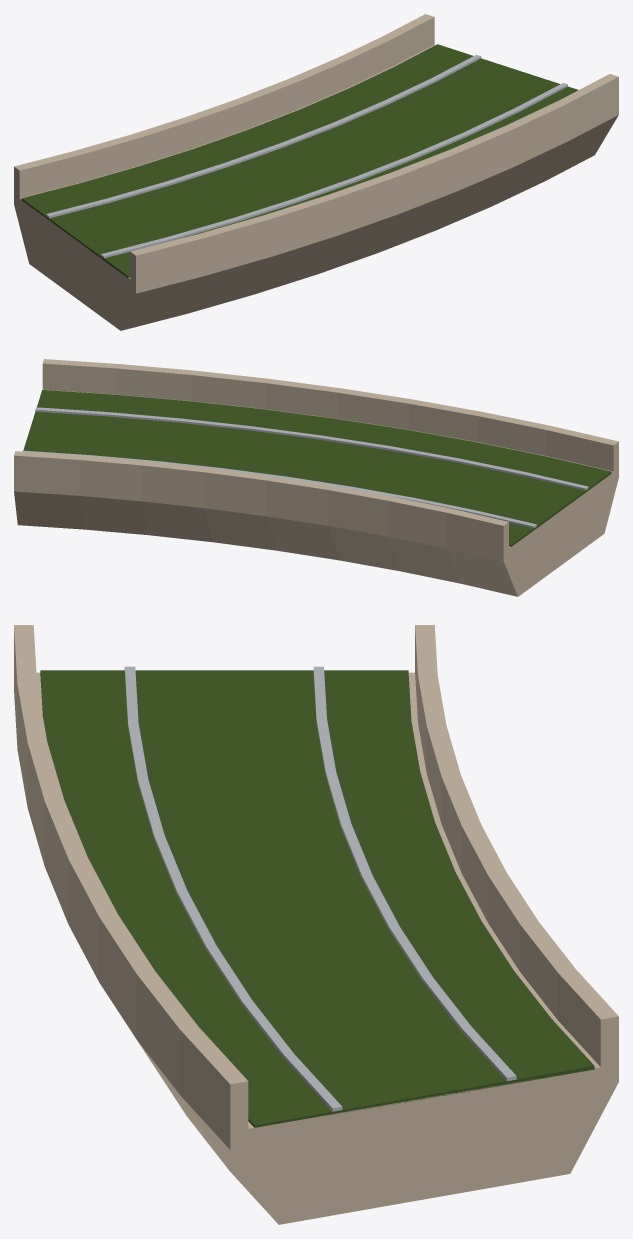
The model's file is city_rail_curve.glb.
3 views of the same model, one above another, from view 1: azimuth 30°, elevation 25°; view 2: azimuth 150°, elevation 25°; view 3: azimuth 270°, elevation 25° (orthographic). The views are drawn at different scales.
Visible parts, largest first — view 1: CityRailCurve_Beam, CityRailCurve_BeamBed, CityRailCurve_BeamRail-1, CityRailCurve_BeamRail1; view 2: CityRailCurve_Beam, CityRailCurve_BeamBed, CityRailCurve_BeamRail-1, CityRailCurve_BeamRail1; view 3: CityRailCurve_BeamBed, CityRailCurve_Beam, CityRailCurve_BeamRail-1, CityRailCurve_BeamRail1.
Part boxes in pixels (box(x1,y1,x2,y2)): CityRailCurve_Beam: box(14, 14, 618, 330); CityRailCurve_BeamBed: box(21, 44, 578, 277); CityRailCurve_BeamRail-1: box(100, 83, 567, 258); CityRailCurve_BeamRail1: box(46, 55, 481, 218); CityRailCurve_Beam: box(14, 359, 618, 596); CityRailCurve_BeamBed: box(23, 390, 611, 546); CityRailCurve_BeamRail-1: box(35, 407, 588, 490); CityRailCurve_BeamRail1: box(22, 450, 536, 528); CityRailCurve_BeamBed: box(40, 670, 594, 1127); CityRailCurve_Beam: box(14, 625, 618, 1224); CityRailCurve_BeamRail-1: box(124, 666, 342, 1111); CityRailCurve_BeamRail1: box(313, 666, 516, 1081).
Size of the model in its own units: 8.27 by 1.25 by 4.6.
